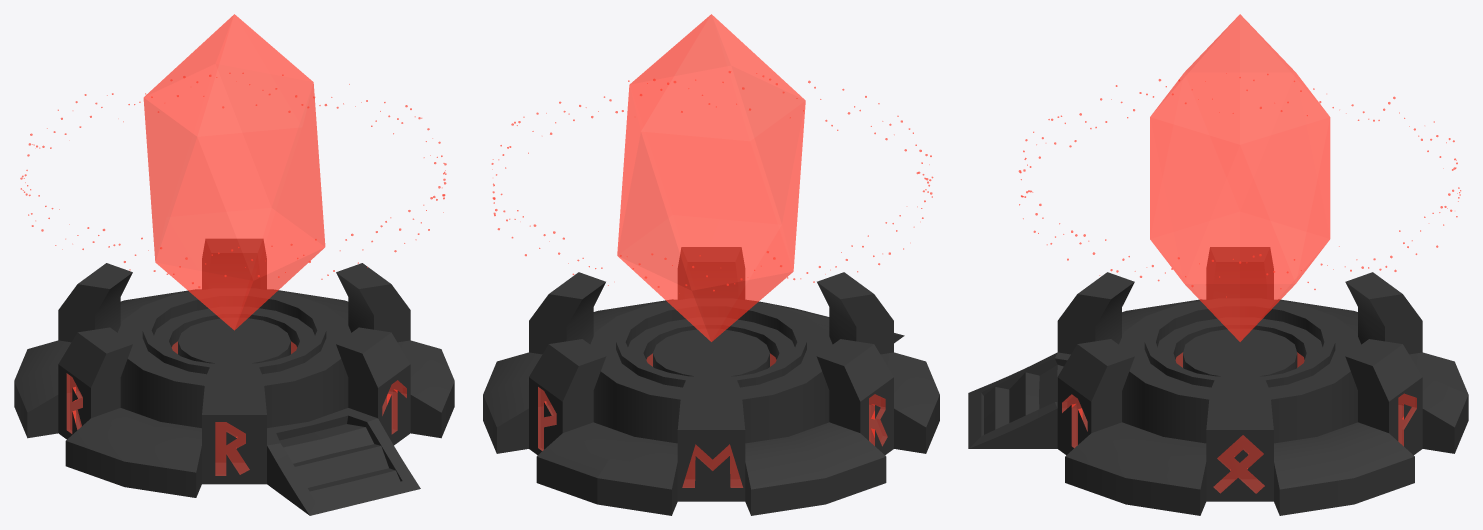
File: towerR.fbx
3 renders of one model, left to right at view 1: azimuth 30°, elevation 25°; view 2: azimuth 150°, elevation 25°; view 3: azimuth 270°, elevation 25°, orthographic. The views are drawn at different scales.
Parts seen in each view (by area): view 1: Cylinder, Icosphere, geo; view 2: Cylinder, Icosphere, geo; view 3: Cylinder, Icosphere, geo.
Boxes of the visible parts, <box> form: Cylinder: <box>14,239,454,515</box>; Icosphere: <box>143,14,325,330</box>; geo: <box>20,73,446,288</box>; Cylinder: <box>483,247,939,515</box>; Icosphere: <box>617,14,805,341</box>; geo: <box>491,71,933,293</box>; Cylinder: <box>968,247,1468,515</box>; Icosphere: <box>1150,14,1330,341</box>; geo: <box>1018,74,1461,297</box>.
Size of the model in its own units: 284 by 287 by 316.
